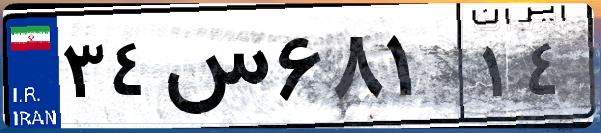1: (385, 28, 445, 110), (475, 38, 525, 113)
3: (57, 26, 110, 100)
4: (525, 38, 570, 115), (110, 28, 158, 98)
6: (270, 28, 330, 110)
8: (330, 28, 385, 110)
س: (158, 20, 270, 120)
